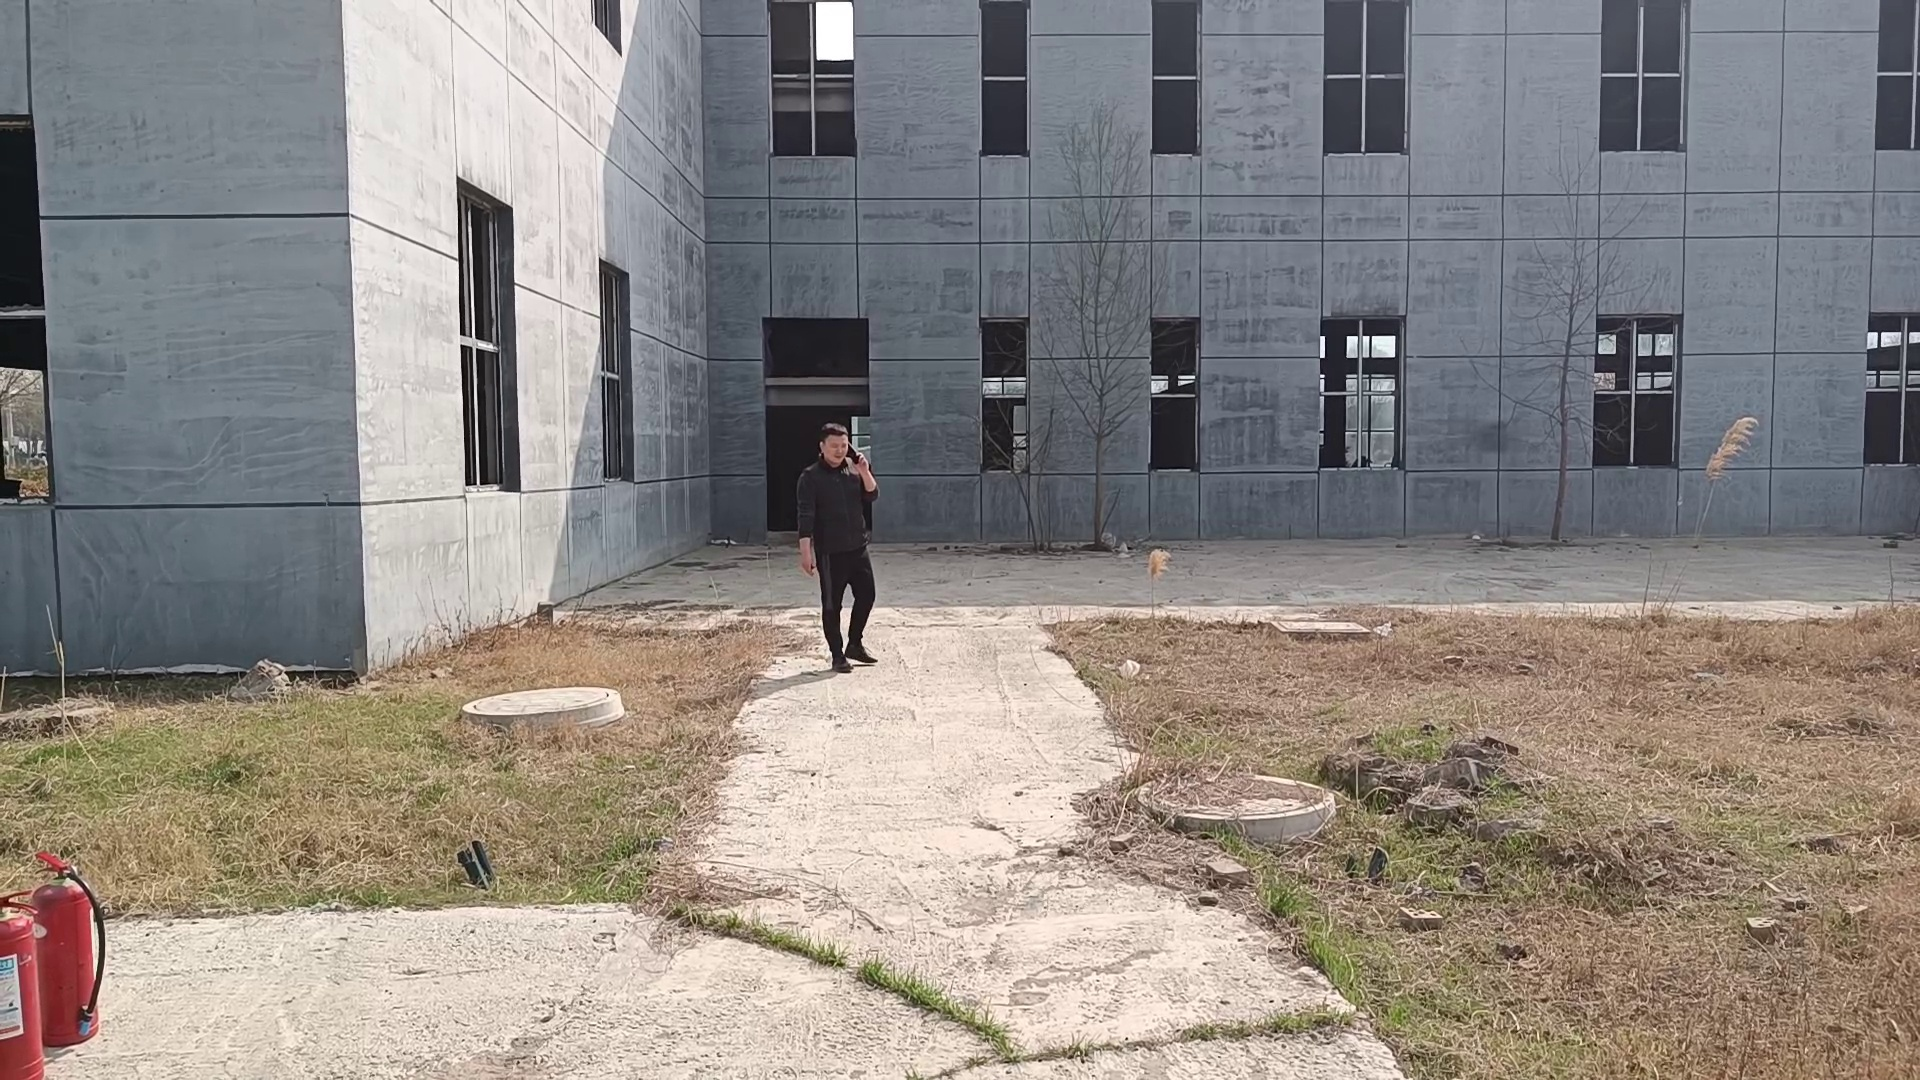phone: (818, 421, 864, 473)
